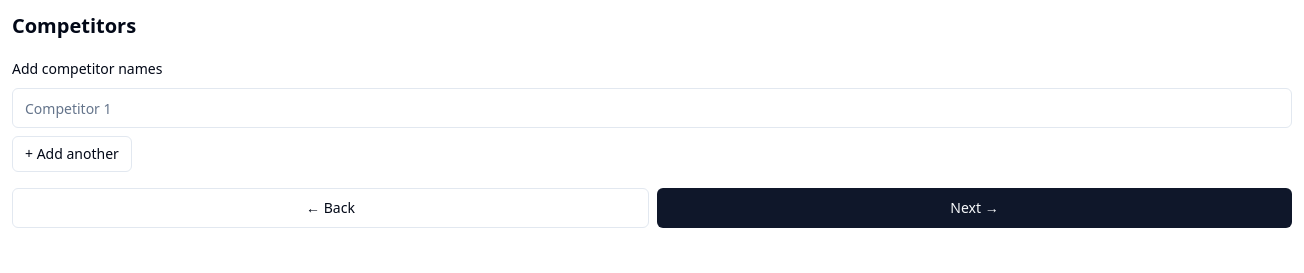
Test: OnboardingPage — CompetitorsStep in isolation › shows error when Next is clicked with no competitors filled in
The image size is (1304, 273).
Click the button "Next →". click: x=974, y=208
box: [657,188,1292,228]
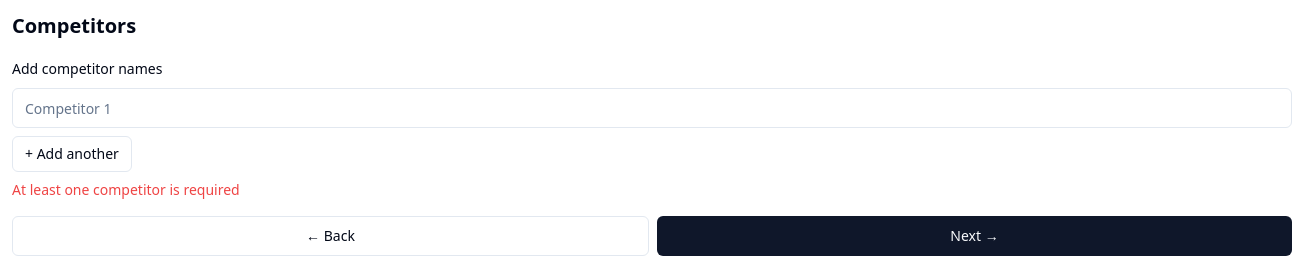
Expected: the text "At least one competitor is required" is shown, [12,180,240,199]
